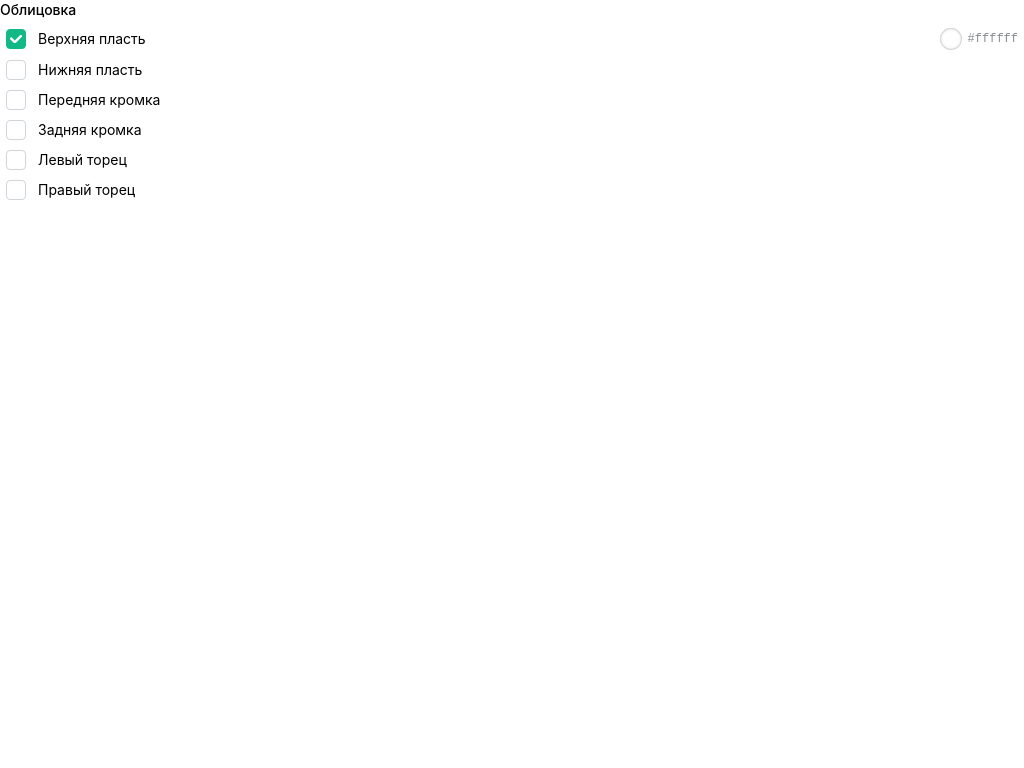
Test: FacesEditor › changes the color via the HEX field and remembers it
This screenshot has width=1024, height=768.
Click the button with aria-label "Цвет: Верхняя пласть" at point(979, 39), box [940,28,1018,50]
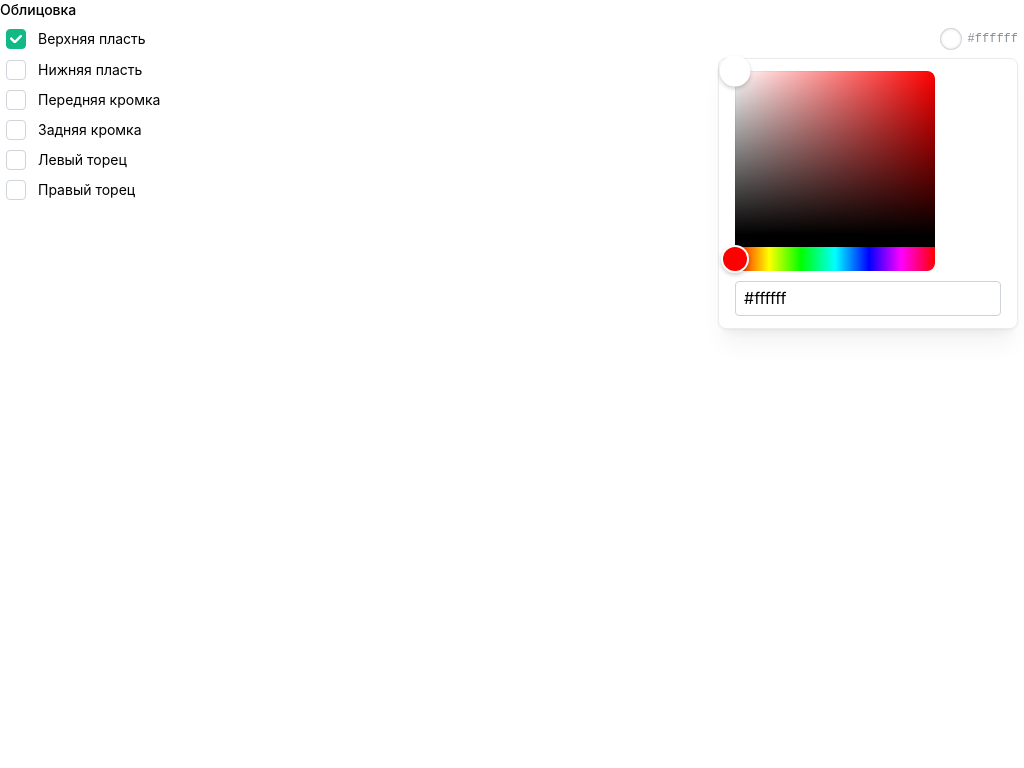
Replace the text in the field named "HEX: Верхняя пласть" with "12AB34" at point(868, 299), box [735,281,1001,316]
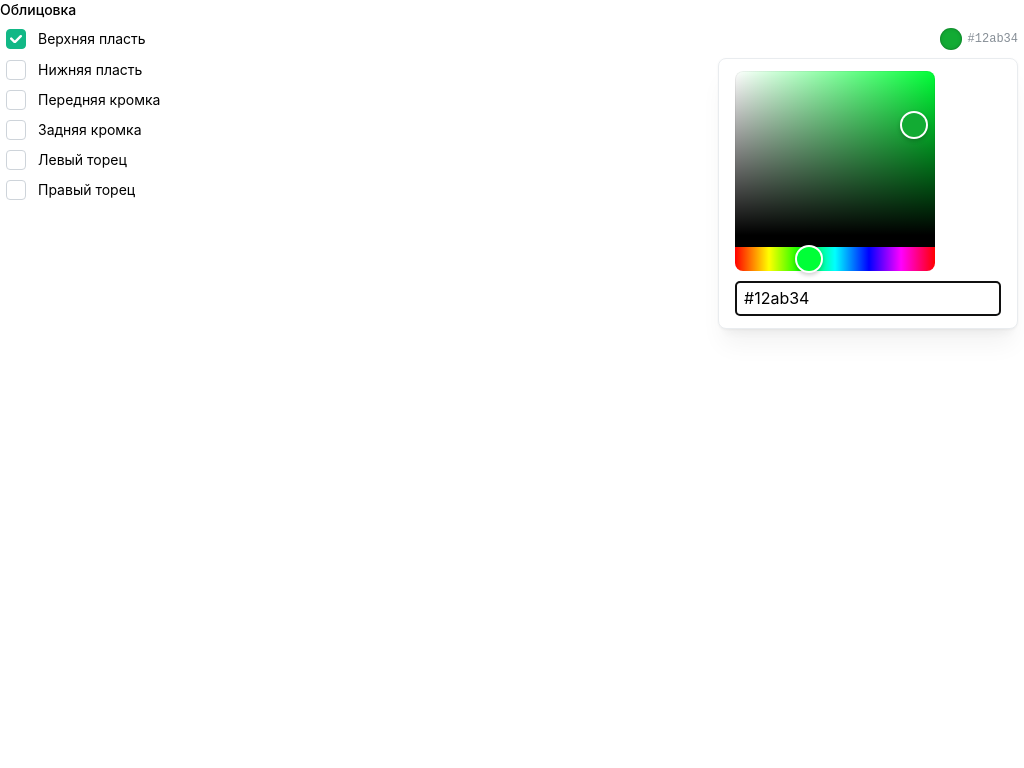
Now the text "#12ab34" is shown, box [968,31,1018,48]
